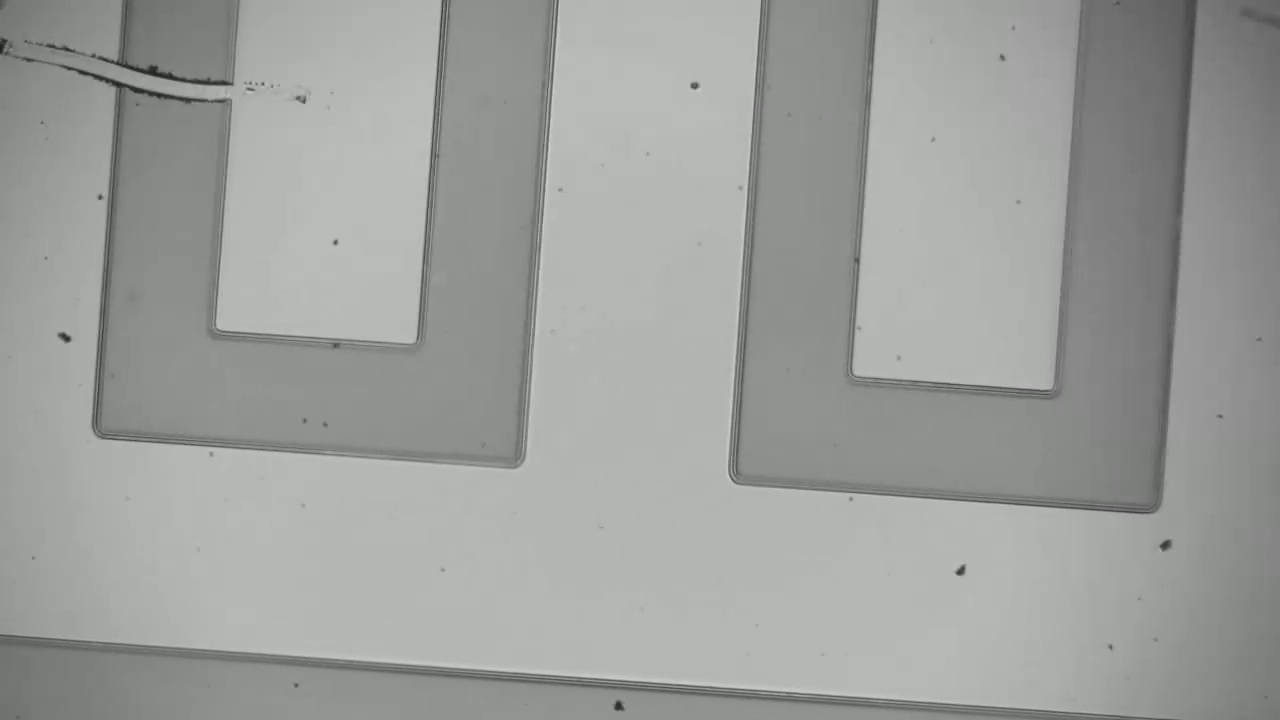Short_circuit: (85, 36, 279, 138)
